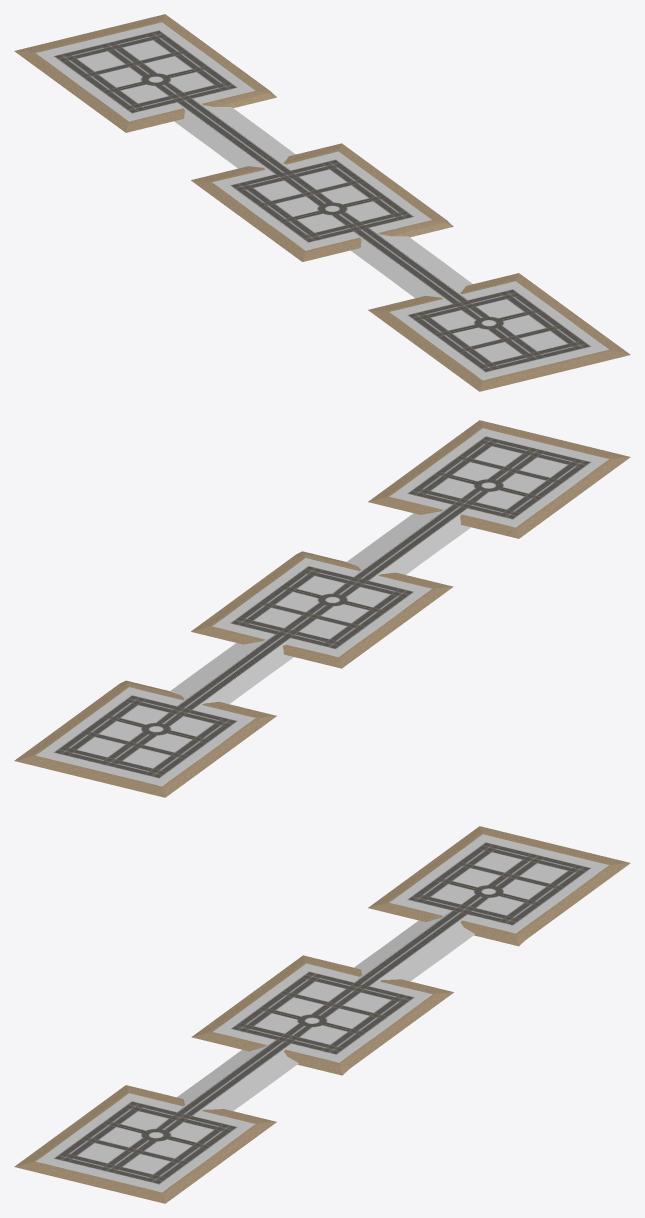
File: map.fbx
3 views of the same model, one above another, from view 1: azimuth 30°, elevation 25°; view 2: azimuth 150°, elevation 25°; view 3: azimuth 330°, elevation 25° (orthographic).
Visible parts, largest first — view 1: GRASS1, road, desert, footh_pht, o21, o3, o17, o13, o14, o4, o9, o5 (+4 smaller); view 2: GRASS1, road, desert, footh_pht, o14, o17, o3, o21, o13, o4, o5, o18 (+3 smaller); view 3: GRASS1, road, desert, footh_pht, o14, o21, o17, o3, o4, o13, o9, o5 (+5 smaller).
Part boxes in pixels (x1,y1,x2,y2): GRASS1: (35, 22, 608, 380); road: (55, 31, 589, 371); desert: (14, 14, 630, 391); footh_pht: (53, 30, 591, 372); o21: (78, 51, 124, 71); o3: (520, 331, 566, 350); o17: (123, 40, 169, 60); o13: (254, 181, 300, 200); o14: (475, 342, 521, 361); o4: (300, 169, 345, 189); o9: (431, 310, 474, 330); o5: (346, 201, 389, 221); GRASS1: (36, 428, 609, 786); road: (55, 437, 589, 777); desert: (14, 420, 630, 797); footh_pht: (53, 436, 591, 778); o14: (520, 457, 566, 477); o17: (78, 737, 124, 756); o3: (475, 446, 521, 466); o21: (123, 748, 169, 767); o13: (300, 619, 346, 638); o4: (254, 608, 300, 627); o5: (298, 576, 344, 594); o18: (121, 705, 167, 724); GRASS1: (36, 834, 609, 1192); road: (55, 843, 589, 1183); desert: (14, 826, 630, 1203); footh_pht: (53, 842, 591, 1184); o14: (78, 1143, 124, 1162); o21: (475, 852, 521, 872); o17: (520, 863, 566, 883); o3: (123, 1154, 169, 1173); o4: (344, 993, 390, 1012); o13: (299, 981, 344, 1001); o9: (121, 1111, 167, 1130); o5: (300, 1025, 346, 1044).
Bounding box in the file's own units: 57774 × 1230 × 307891.
